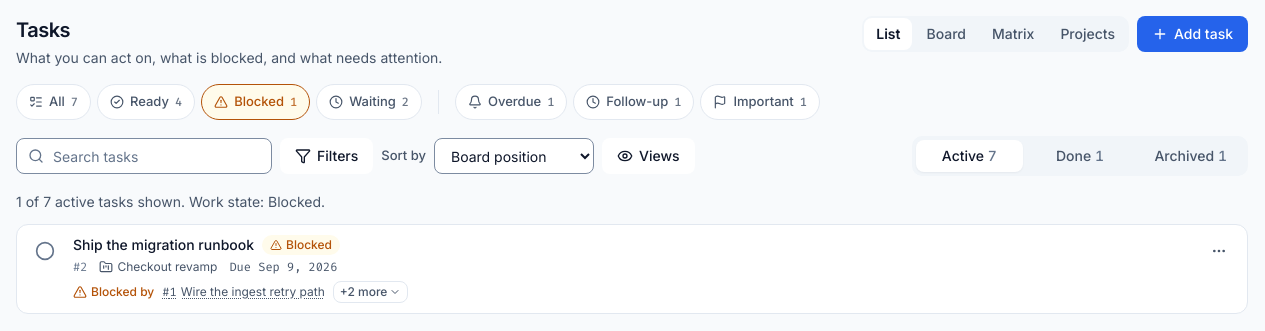
Test: TasksPage - blocker disclosure › shows the first blocker inline and reveals the rest through an operable +n control
The image size is (1265, 331).
Expected: the text "Blocked by" is shown, [73,284,154,300]
Expected: the link "#1 Wire the ingest retry path" is shown, [162,284,325,300]
Click the button named "Show 2 more blockers for Ship the migration runbook" at (371, 292), box [333,281,408,303]
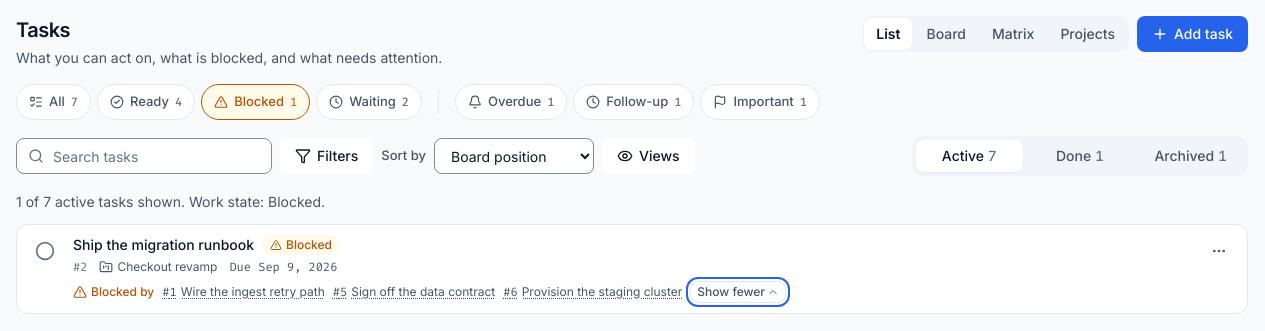
Now the button named "Show 2 more blockers for Ship the migration runbook" is expanded, box [690,281,786,303]
Now the link "#5 Sign off the data contract" is shown, box [333,284,495,300]
Now the link "#6 Provision the staging cluster" is shown, box [503,284,682,300]
